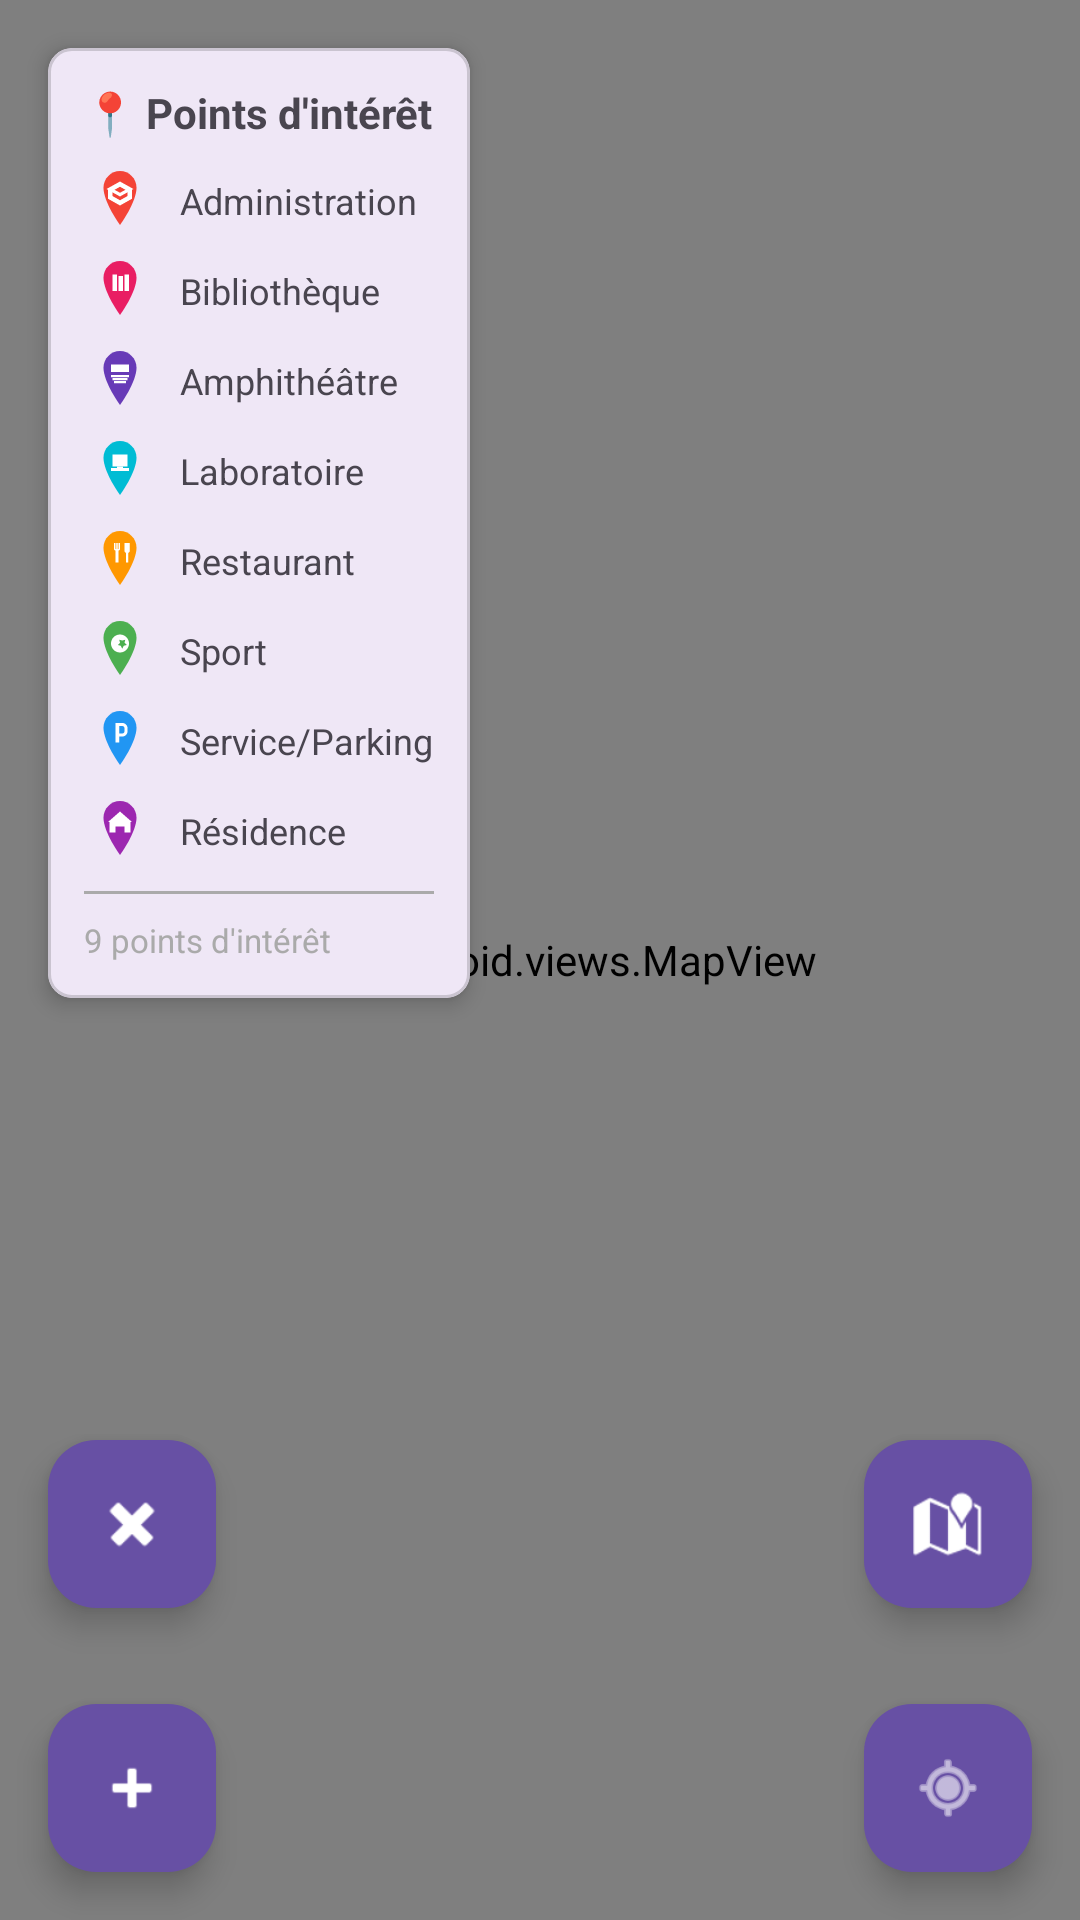

Icons on this 1080×1920 Android screen, each with the point to tap as (x,y):
Ma position: (948,1788)
poi academic: (120,198)
poi amphitheater: (120,378)
poi lab: (120,468)
poi library: (120,288)
poi residence: (120,828)
poi service: (120,738)
Tous les points: (948,1524)
Zoom +: (132,1788)
